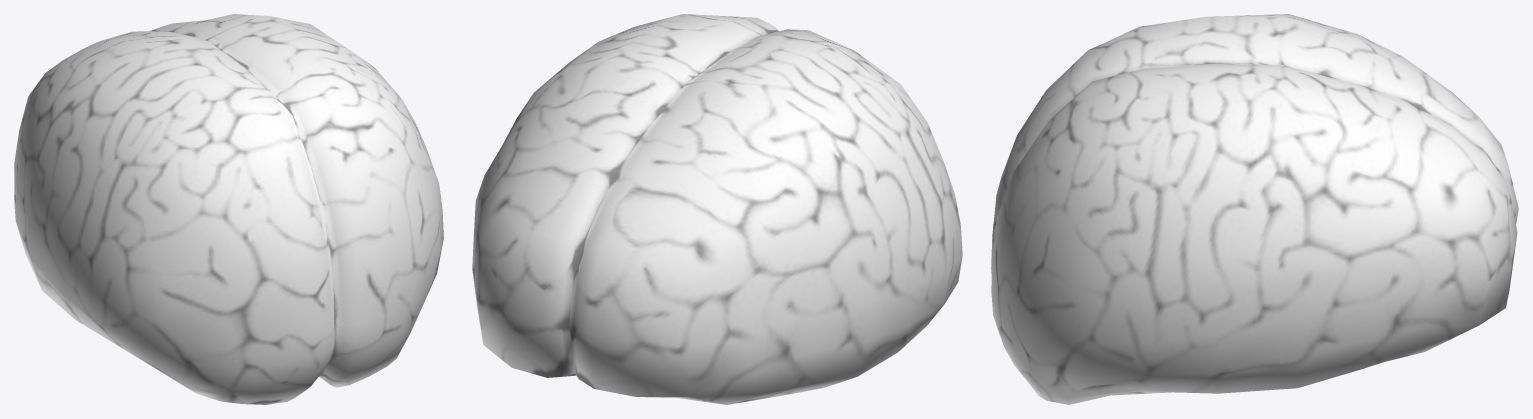
Rendered from Brain.glb.
3 renders of one model, left to right at view 1: azimuth 30°, elevation 25°; view 2: azimuth 150°, elevation 25°; view 3: azimuth 270°, elevation 25°, orthographic. The views are drawn at different scales.
Parts seen in each view (by area): view 1: Brain_collect; view 2: Brain_collect; view 3: Brain_collect.
Part boxes in pixels (box(x1,y1,x2,y2)): Brain_collect: box(14, 14, 443, 404); Brain_collect: box(472, 14, 962, 404); Brain_collect: box(991, 14, 1518, 404).
Bounding box in the file's own units: 0.7655 × 0.6006 × 0.9058.
Materials: 1 (1 with a texture image).
